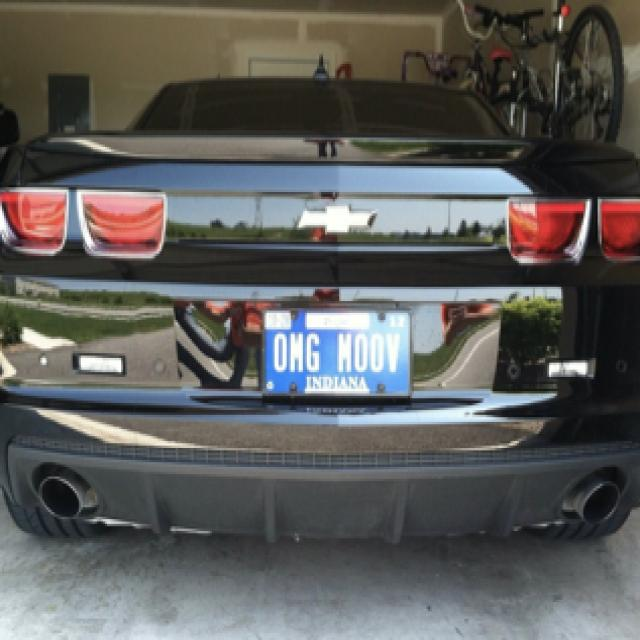license_plate: (262, 306, 412, 398)
